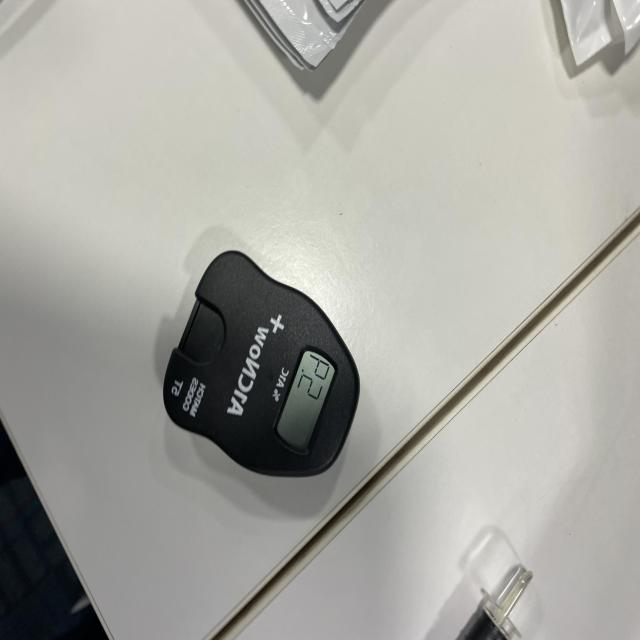hba1c: (159, 248, 362, 484)
